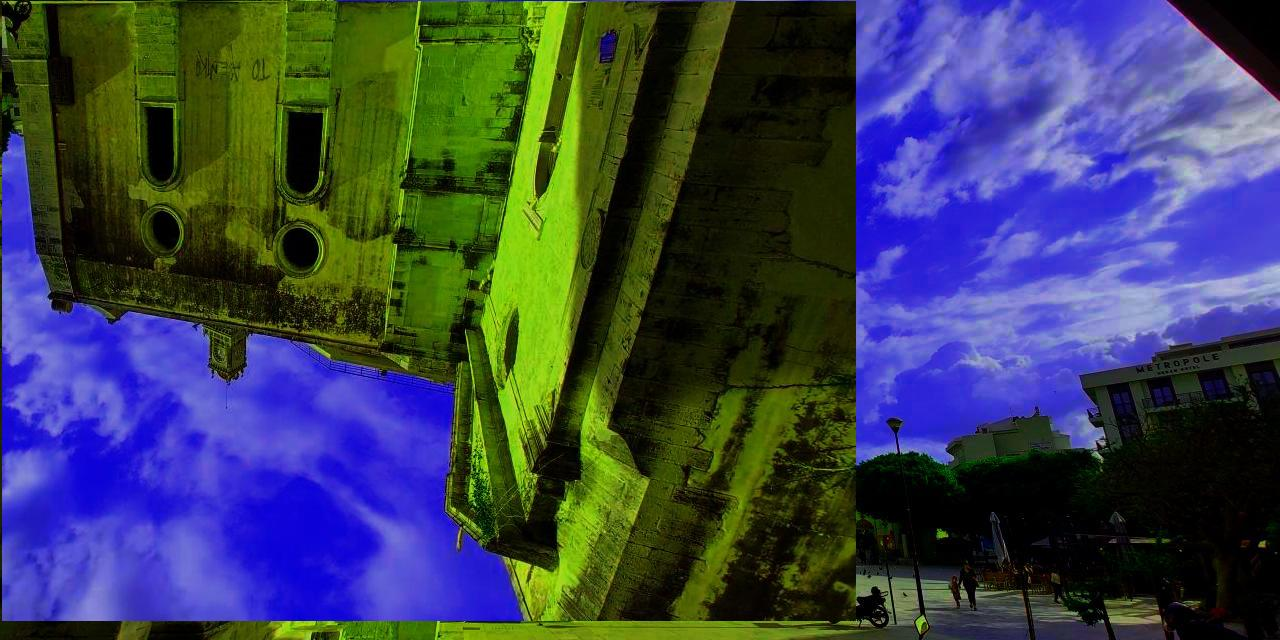Agia Aikaterini: (3, 2, 857, 622)
